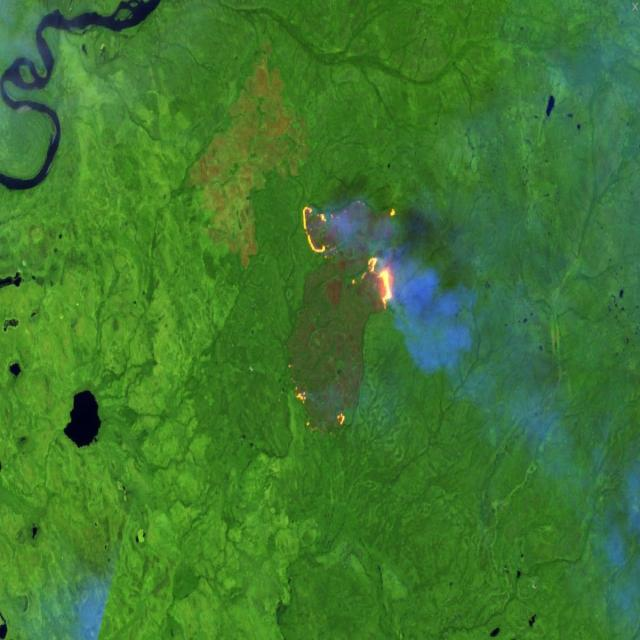fire: (299, 194, 401, 322)
